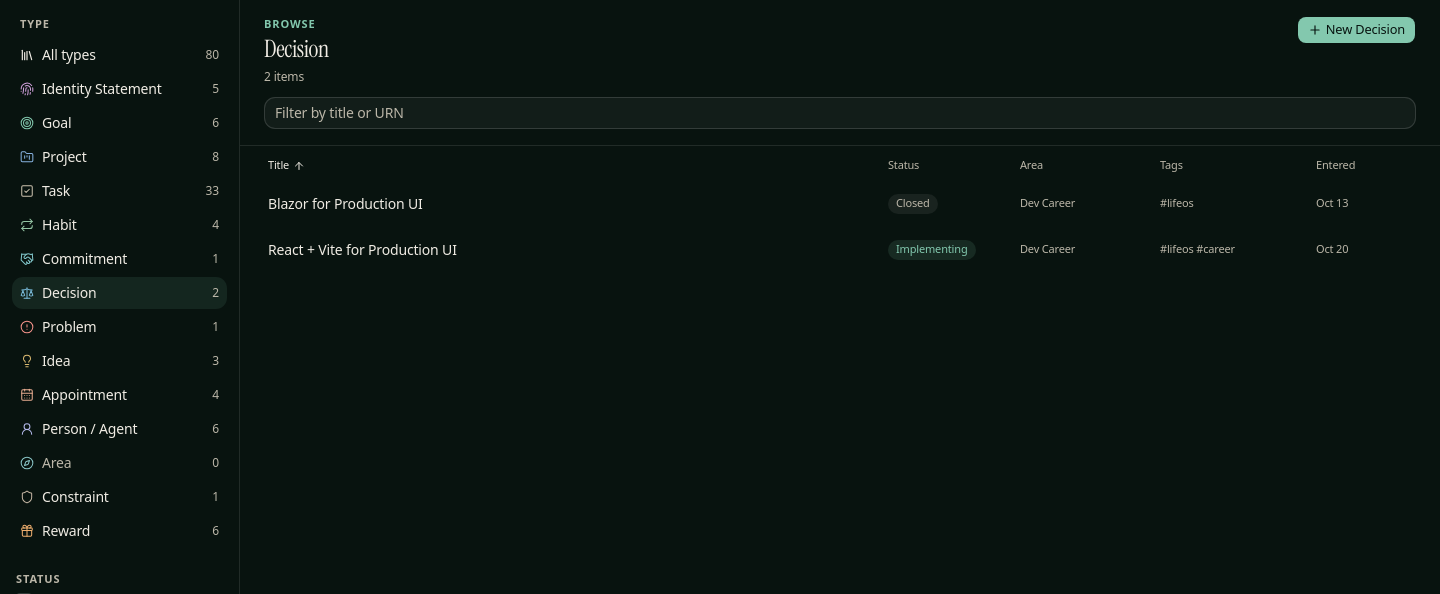
Browse page (BROWSE-2) › shows the columns that fit what's looked at, and sorts by a column header
Note: Status sorts in the Decision's own order: Implementing comes before Closed.
Click the button with aria-label "Sort by Status".
click(904, 166)  # box x1=888 y1=154 x2=919 y2=178
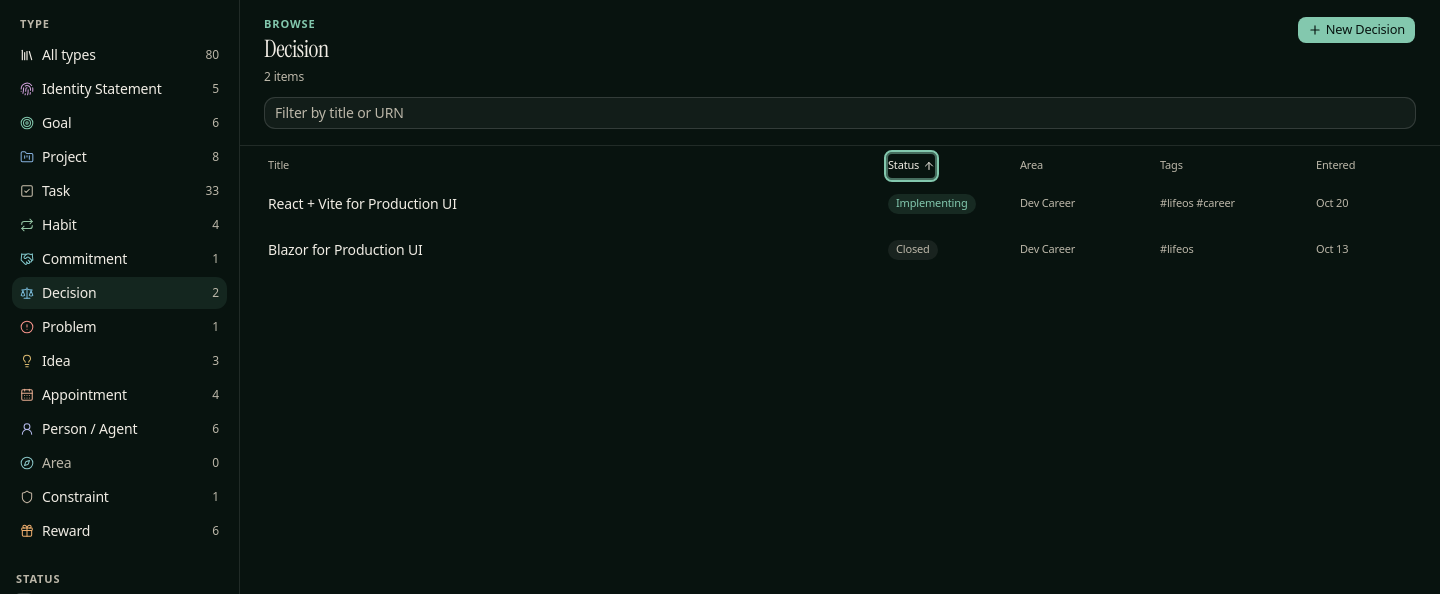
Click the button with aria-label "Status, sorted ascending".
click(912, 166)  # box x1=888 y1=154 x2=935 y2=178
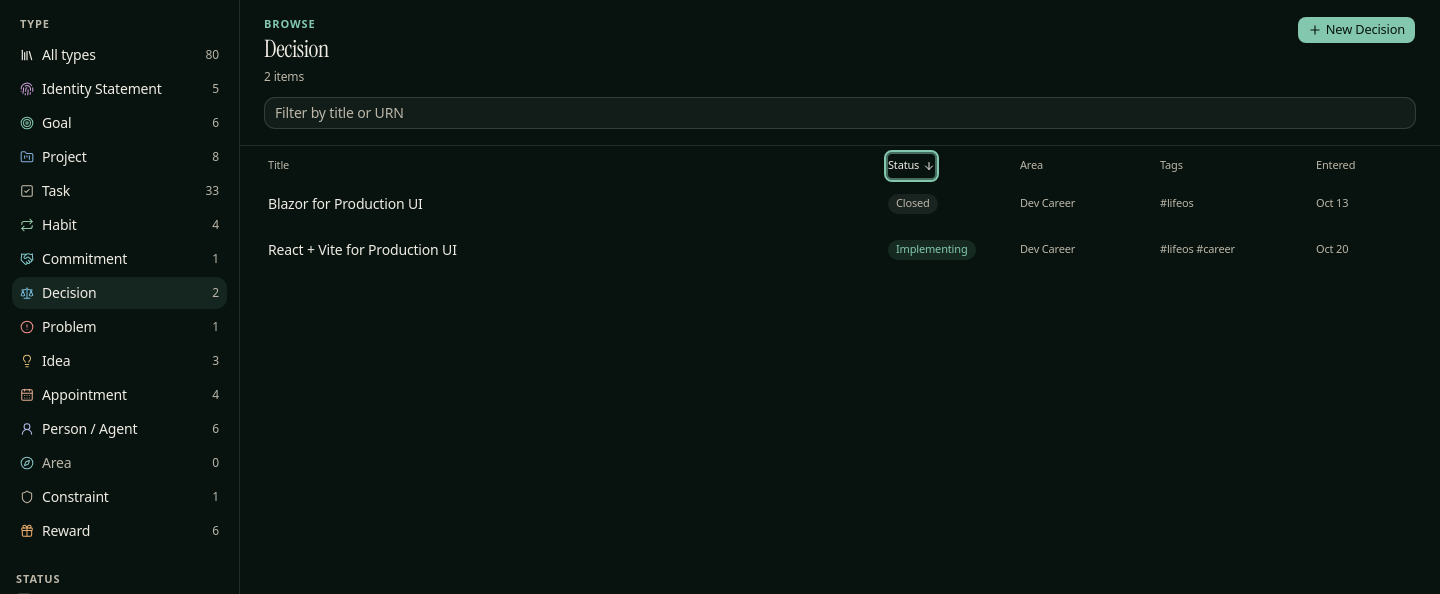
Click the button "Task 33".
click(120, 190)  # box x1=12 y1=174 x2=227 y2=206
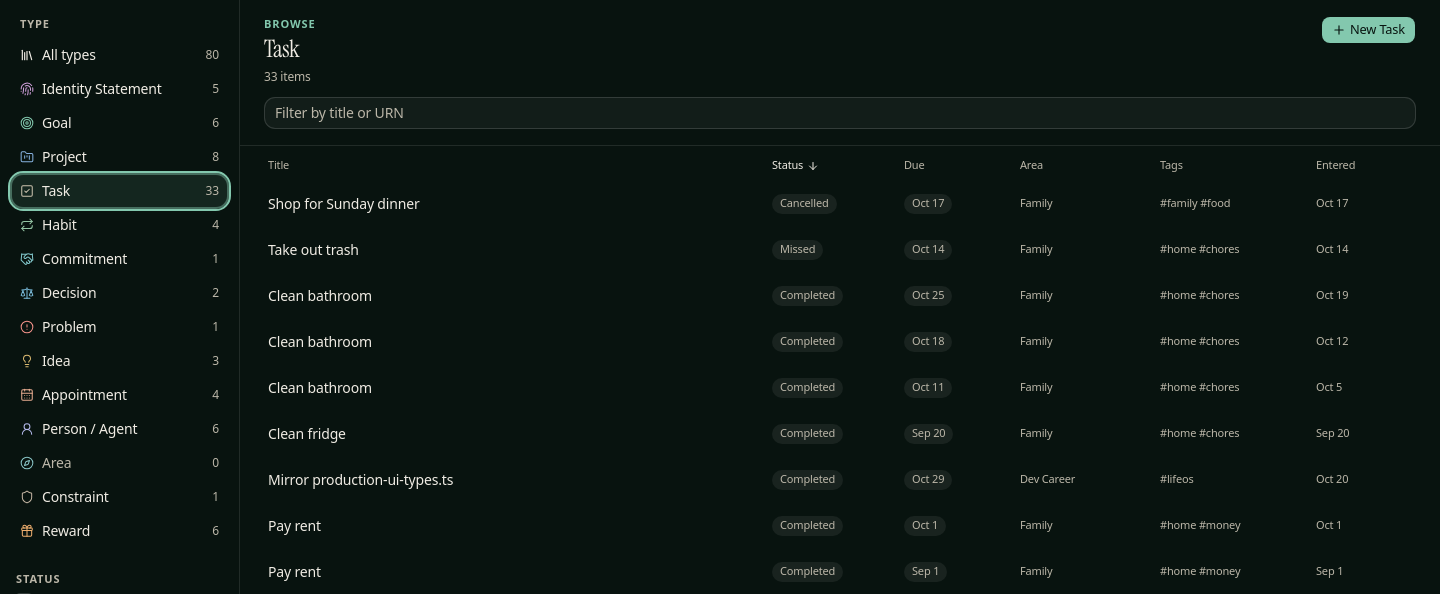
Result: the button with aria-label "Sort by Due" is shown at x1=904 y1=154 x2=924 y2=178
